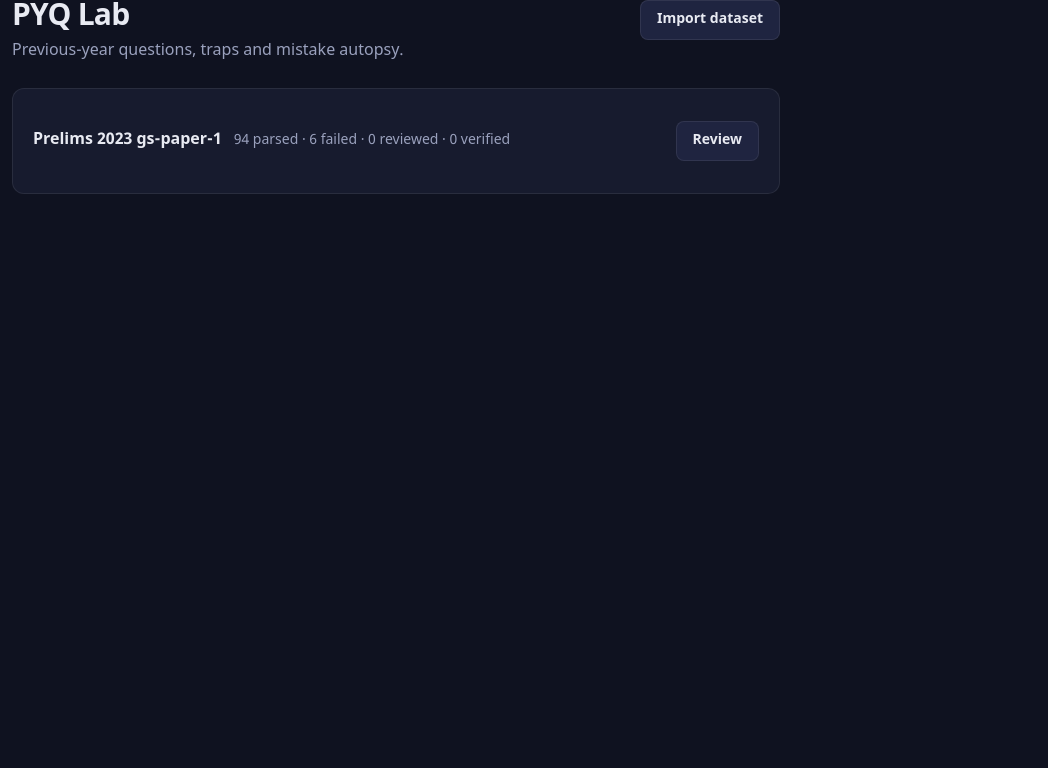
Test: PYQ screen › marks a question verified and shows the server reason when it cannot
This screenshot has width=1048, height=768.
What coordinates should you click on to do the following:
click the button with aria-label "review prelims 2023 gs-paper-1"
I would click on:
 (717, 141)
Its box is [676,121,759,161].
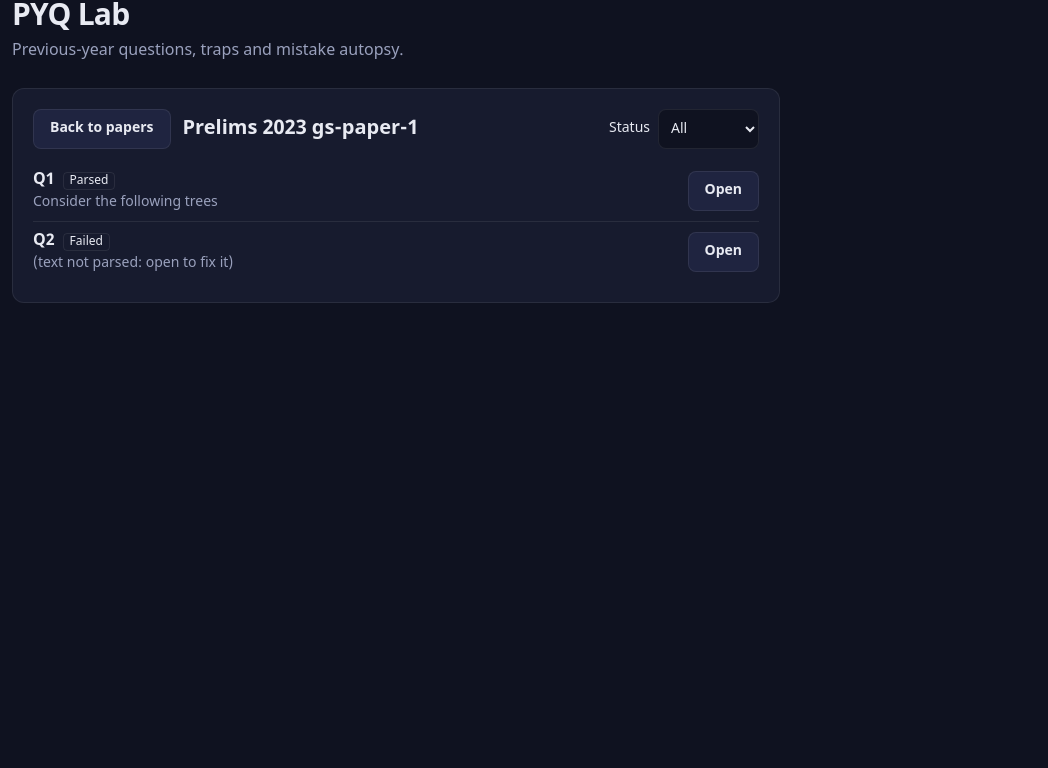
What coordinates should you click on to do the following:
click the button with aria-label "open question 2"
I would click on:
 (723, 252)
Its box is [688,232,759,272].
(page scrolled)
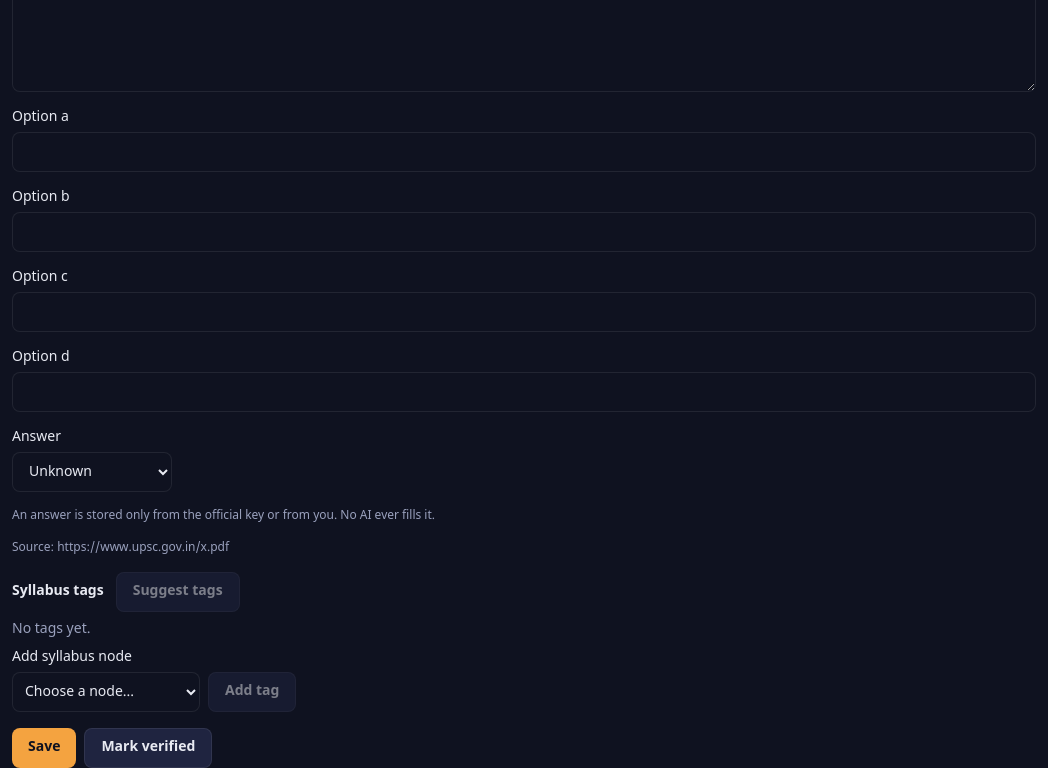
What coordinates should you click on to do the following:
click the button "Mark verified"
I would click on:
 (148, 748)
Its box is [84,728,212,767].
(page scrolled)
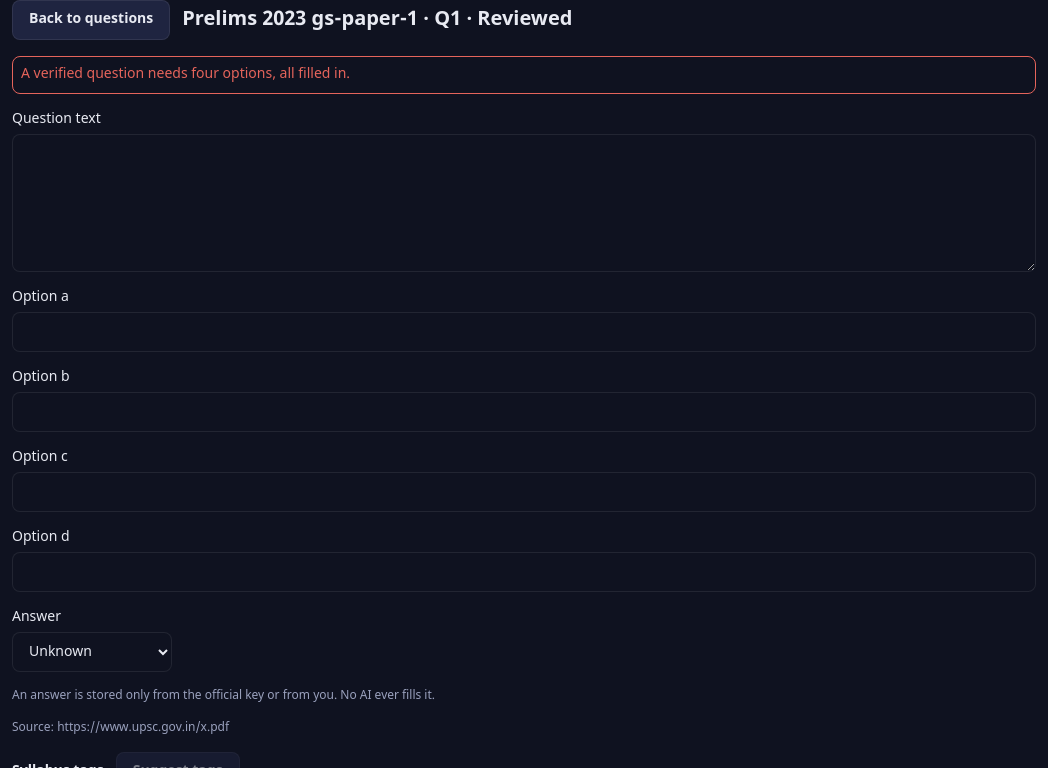
Expected: the message shows "needs four options", [21,65,350,84]
